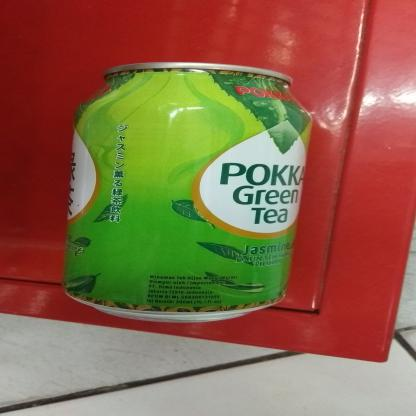bottle: (59, 55, 313, 323)
